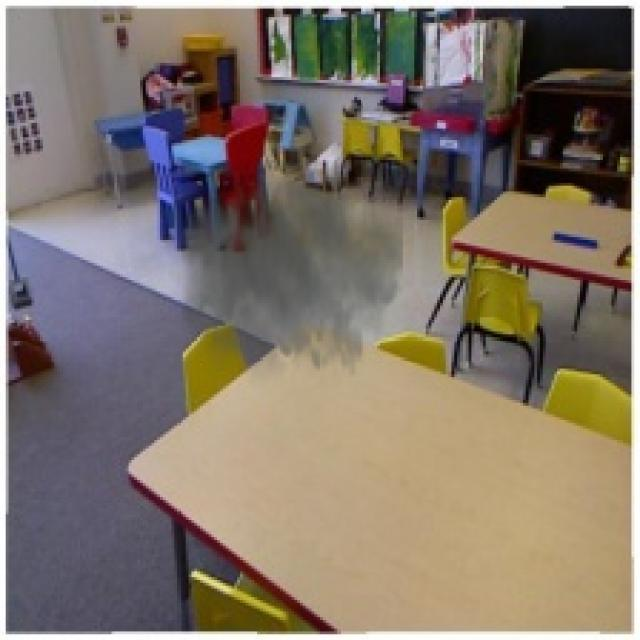Smoke: (163, 160, 403, 400)
